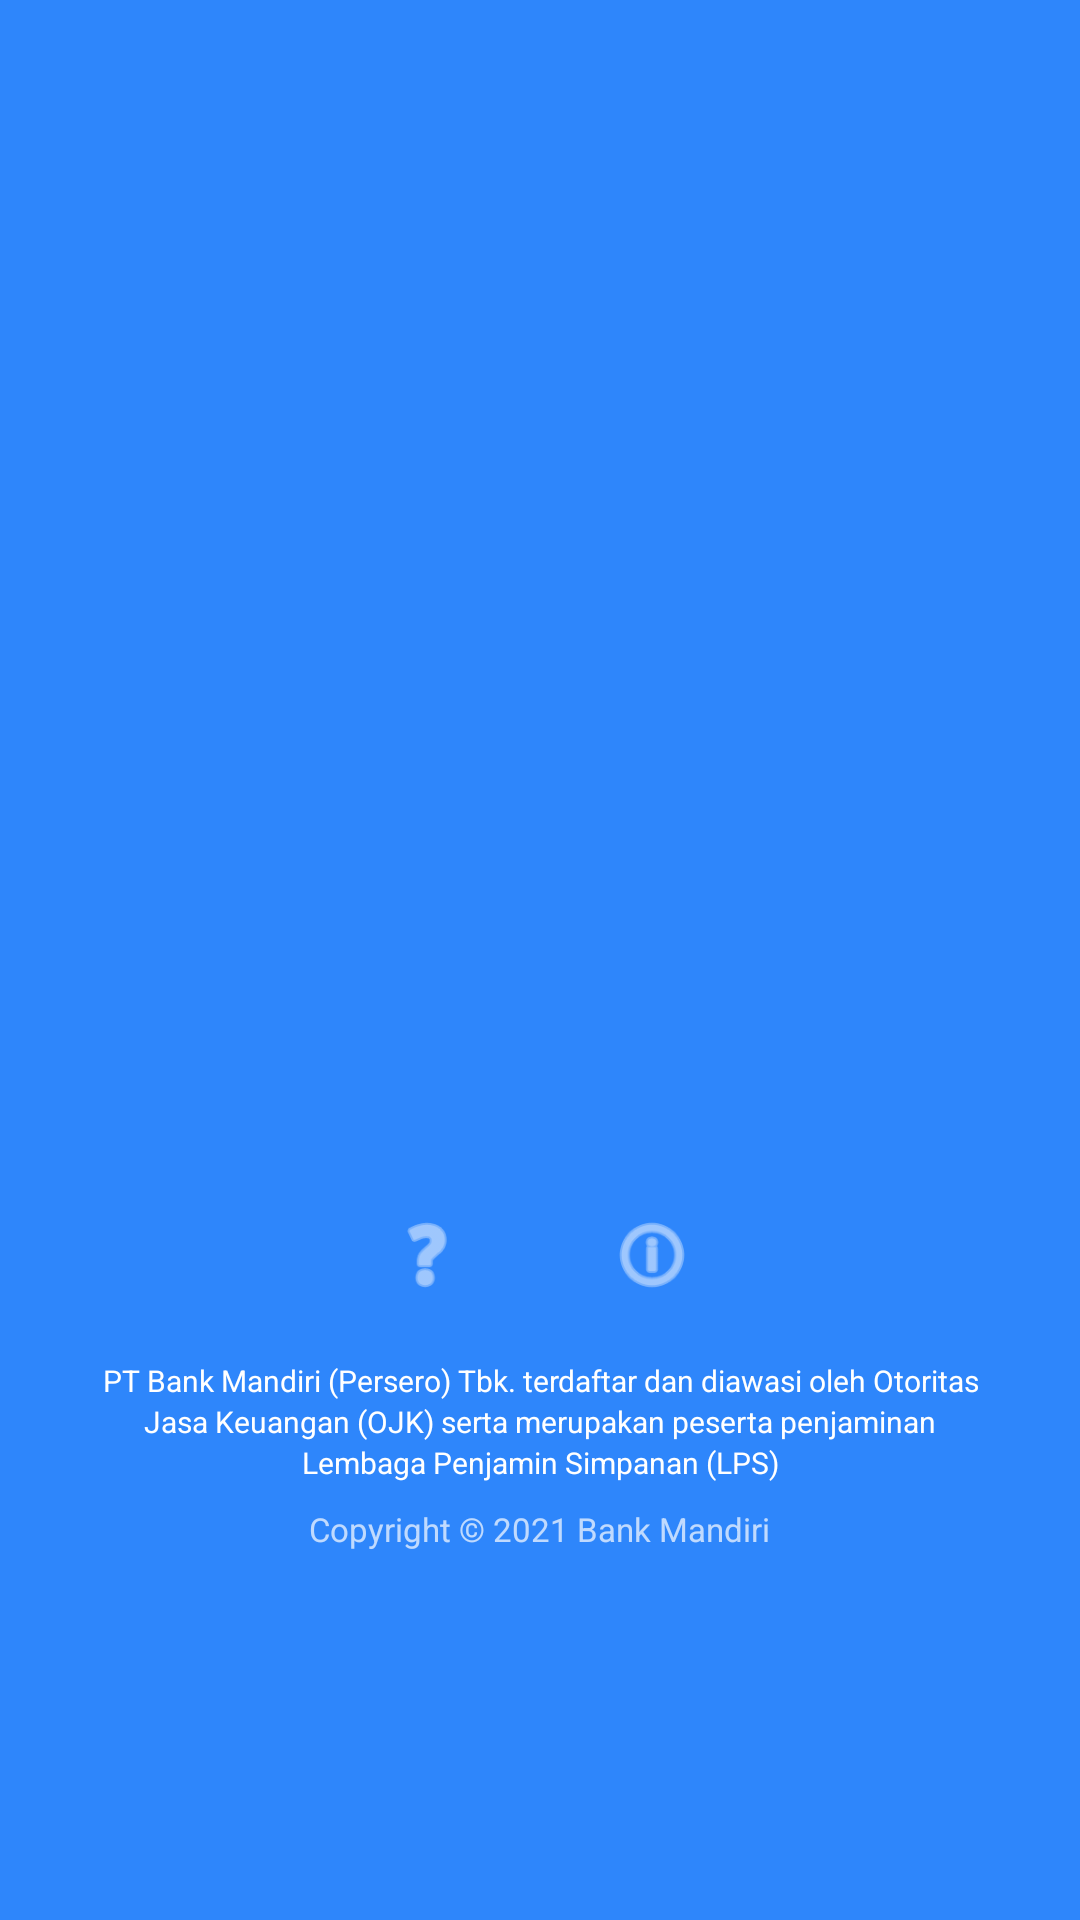

Icon bounding boxes for this 1080px×1920px phone screenshot, format [x1, y1, x2, y2]:
help: [407, 1223, 447, 1287]
info details: [620, 1223, 684, 1287]
